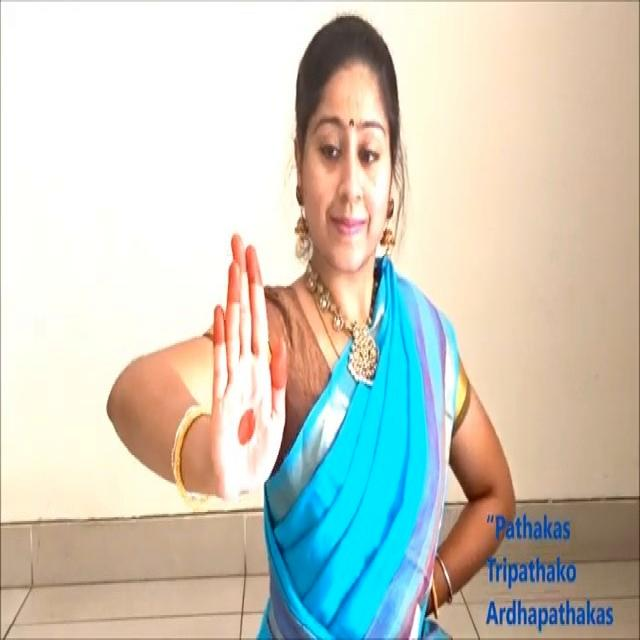Pataka: (171, 234, 291, 509)
lady: (276, 0, 419, 299)
text: (478, 494, 630, 640)
